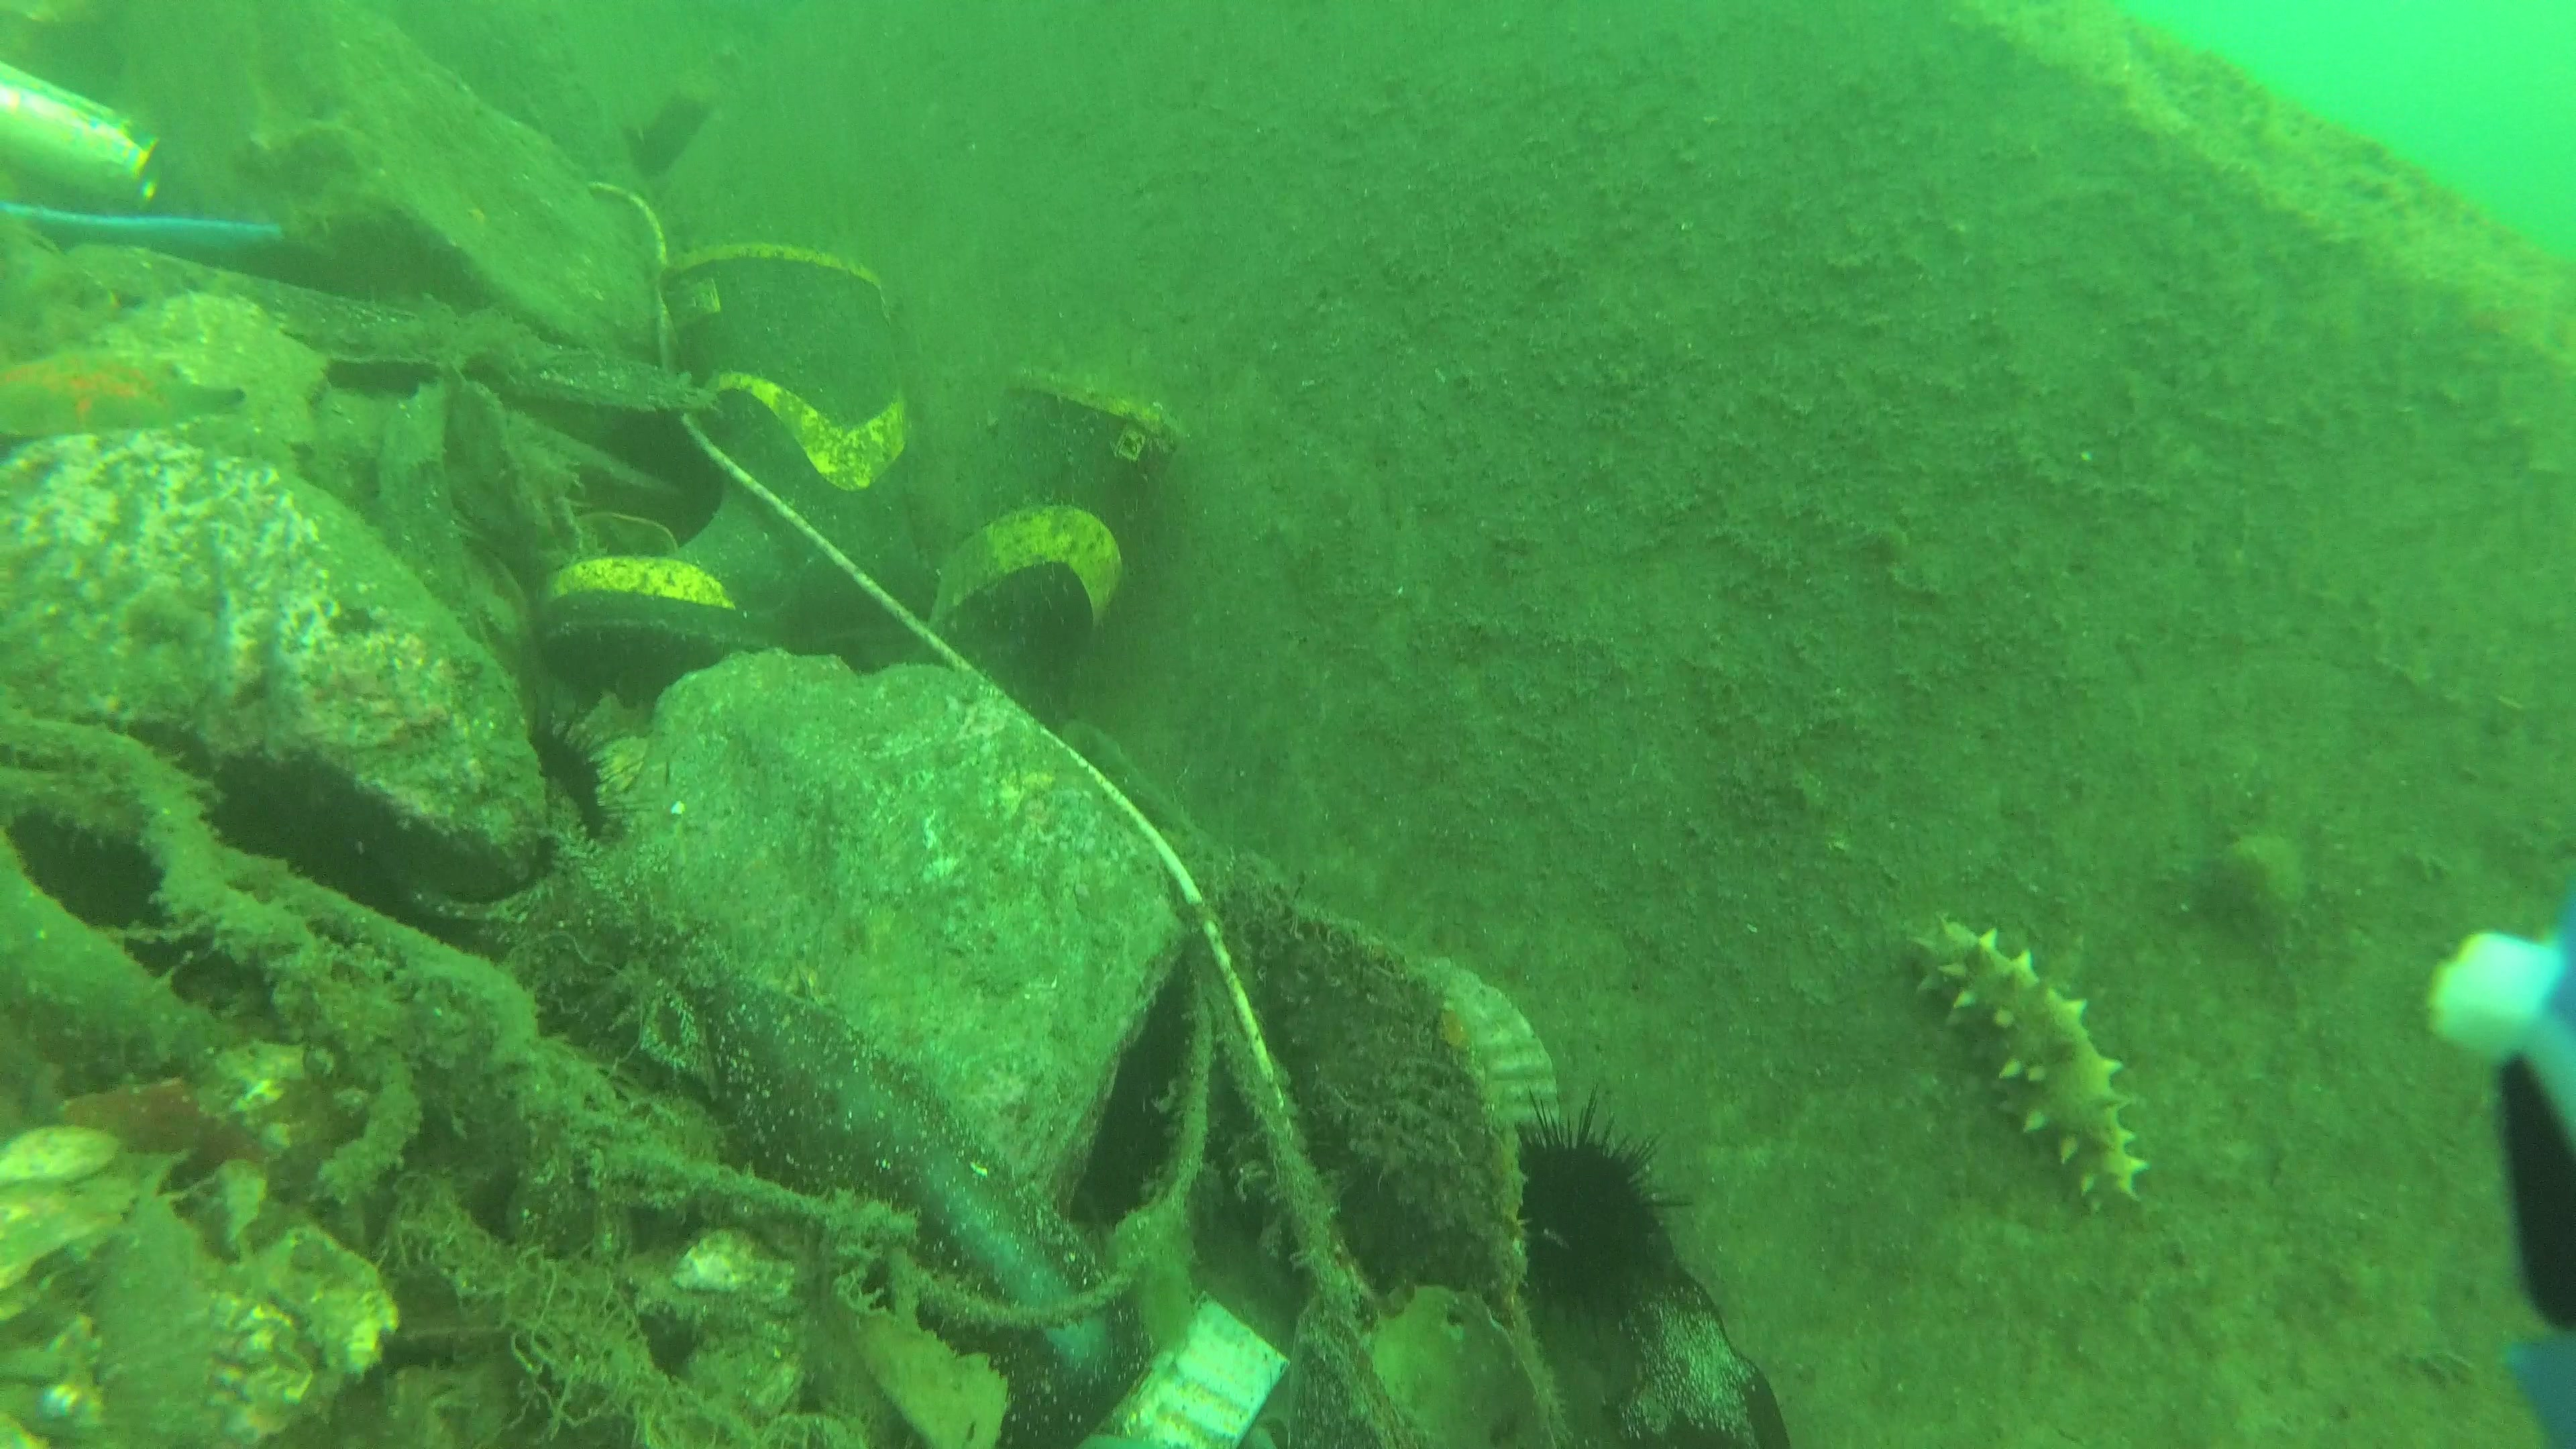echinus: (1514, 1077, 1702, 1341), (524, 683, 658, 862)
holothurian: (1907, 906, 2155, 1221)
